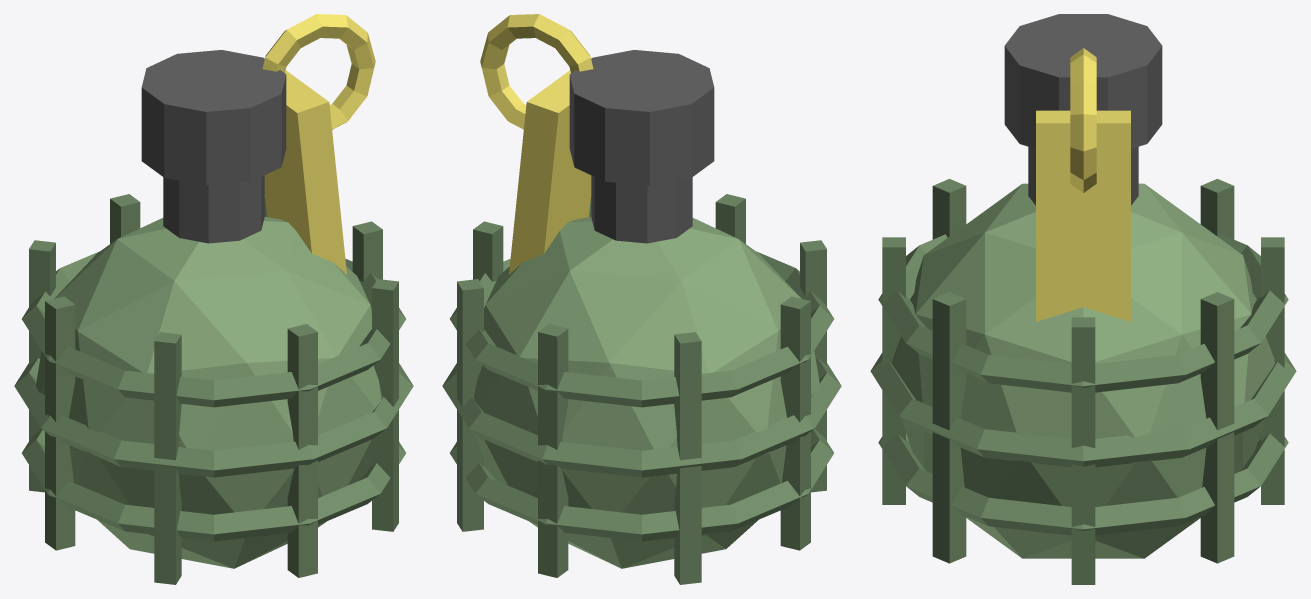
Rendered from grenade.glb.
3 views of the same model, side by side, from view 1: azimuth 30°, elevation 25°; view 2: azimuth 150°, elevation 25°; view 3: azimuth 270°, elevation 25° (orthographic). The views are drawn at different scales.
Parts seen in each view (by area): view 1: Body, Cap, RidgeMid, RidgeTop, SafetyLever, RidgeBottom, Rib8, Rib1, Rib7, Neck, Rib2, PinRing (+3 smaller); view 2: Body, Cap, RidgeMid, RidgeTop, SafetyLever, RidgeBottom, Rib6, Rib5, Rib7, Neck, Rib4, PinRing (+3 smaller); view 3: Body, SafetyLever, Cap, RidgeTop, RidgeMid, RidgeBottom, Rib2, Rib4, Rib3, Rib1, Rib5, PinRing (+3 smaller).
Part boxes in pixels (x1=…): Body: x1=36, y1=216, x2=382, y2=568; Cap: x1=141, y1=50, x2=286, y2=185; RidgeMid: x1=14, y1=358, x2=413, y2=477; RidgeTop: x1=22, y1=251, x2=405, y2=407; SafetyLever: x1=264, y1=70, x2=346, y2=274; RidgeBottom: x1=22, y1=429, x2=405, y2=541; Rib8: x1=154, y1=332, x2=181, y2=584; Rib1: x1=287, y1=324, x2=317, y2=577; Rib7: x1=45, y1=296, x2=75, y2=550; Neck: x1=163, y1=175, x2=264, y2=243; Rib2: x1=372, y1=279, x2=398, y2=531; PinRing: x1=262, y1=14, x2=375, y2=129; Body: x1=473, y1=216, x2=819, y2=568; Cap: x1=569, y1=50, x2=714, y2=185; RidgeMid: x1=442, y1=358, x2=841, y2=477; RidgeTop: x1=450, y1=251, x2=833, y2=407; SafetyLever: x1=509, y1=70, x2=591, y2=274; RidgeBottom: x1=450, y1=429, x2=833, y2=541; Rib6: x1=674, y1=332, x2=701, y2=584; Rib5: x1=538, y1=324, x2=568, y2=577; Rib7: x1=780, y1=296, x2=810, y2=550; Neck: x1=591, y1=175, x2=692, y2=243; Rib4: x1=457, y1=279, x2=483, y2=531; PinRing: x1=480, y1=14, x2=593, y2=129; Body: x1=892, y1=183, x2=1274, y2=558; SafetyLever: x1=1036, y1=110, x2=1130, y2=321; Cap: x1=1004, y1=14, x2=1162, y2=148; RidgeTop: x1=878, y1=234, x2=1288, y2=392; RidgeMid: x1=870, y1=353, x2=1296, y2=467; RidgeBottom: x1=878, y1=433, x2=1288, y2=535; Rib2: x1=932, y1=292, x2=966, y2=563; Rib4: x1=1200, y1=292, x2=1234, y2=563; Rib3: x1=1071, y1=317, x2=1095, y2=584; Rib1: x1=882, y1=237, x2=905, y2=504; Rib5: x1=1261, y1=237, x2=1284, y2=504; PinRing: x1=1070, y1=48, x2=1096, y2=192.
Size of the model in its own units: 0.108 by 0.1535 by 0.108.
